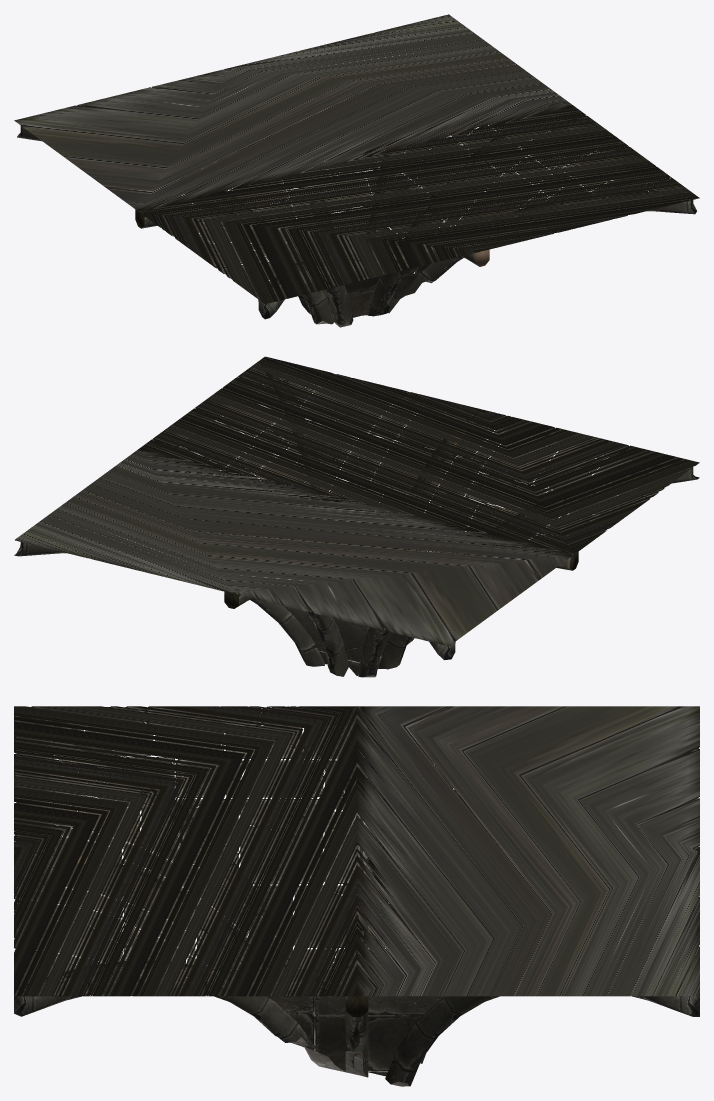
3 views of the same model, one above another, from view 1: azimuth 30°, elevation 25°; view 2: azimuth 150°, elevation 25°; view 3: azimuth 270°, elevation 25° (orthographic). The views are drawn at different scales.
Visible parts, largest first — view 1: SM_Dowdun_Vaulted_Ceiling_12x12_01_DMG_LOD0; view 2: SM_Dowdun_Vaulted_Ceiling_12x12_01_DMG_LOD0; view 3: SM_Dowdun_Vaulted_Ceiling_12x12_01_DMG_LOD0.
Part boxes in pixels (box(x1,y1,x2,y2)): SM_Dowdun_Vaulted_Ceiling_12x12_01_DMG_LOD0: box(14, 14, 699, 327); SM_Dowdun_Vaulted_Ceiling_12x12_01_DMG_LOD0: box(14, 356, 699, 677); SM_Dowdun_Vaulted_Ceiling_12x12_01_DMG_LOD0: box(14, 706, 699, 1086).
Size of the model in its own units: 12 by 4.26 by 12.
Materials: 3 (3 with a texture image).
